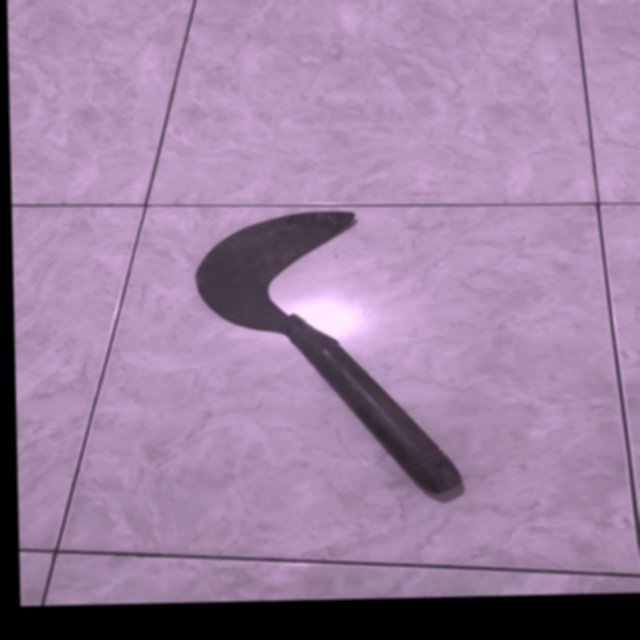Sharp-Object: (175, 201, 459, 517)
